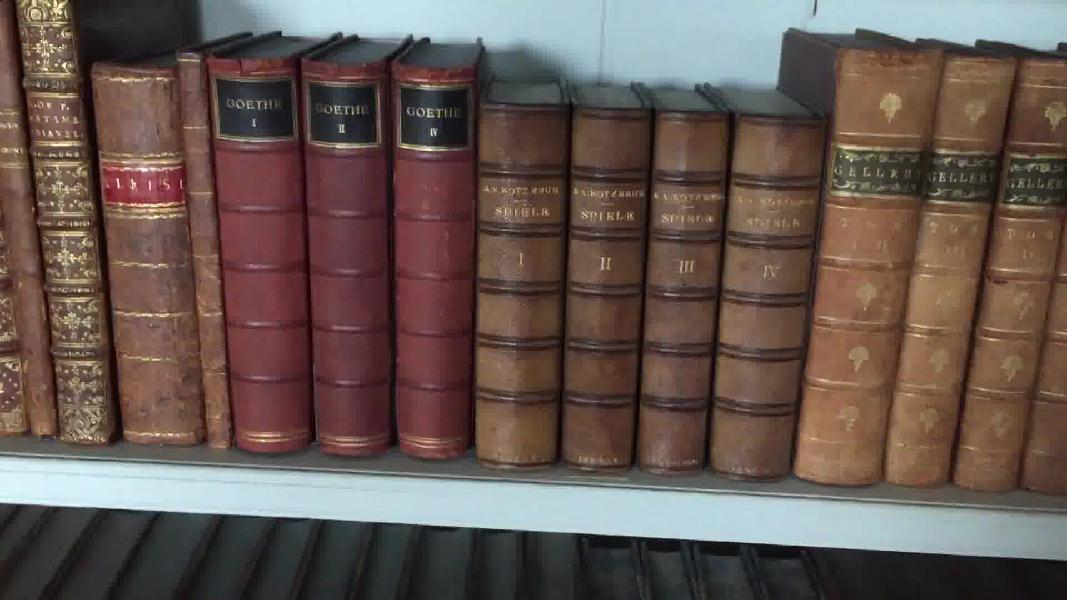Aa6-10: (167, 47, 235, 451)
Aa6-11_13: (209, 48, 482, 465)
Aa6-14_17: (478, 92, 831, 489)
Aa6-18_23: (800, 24, 1067, 509)
Aa6-8: (12, 2, 111, 446)
Aa6-9: (86, 44, 206, 457)
